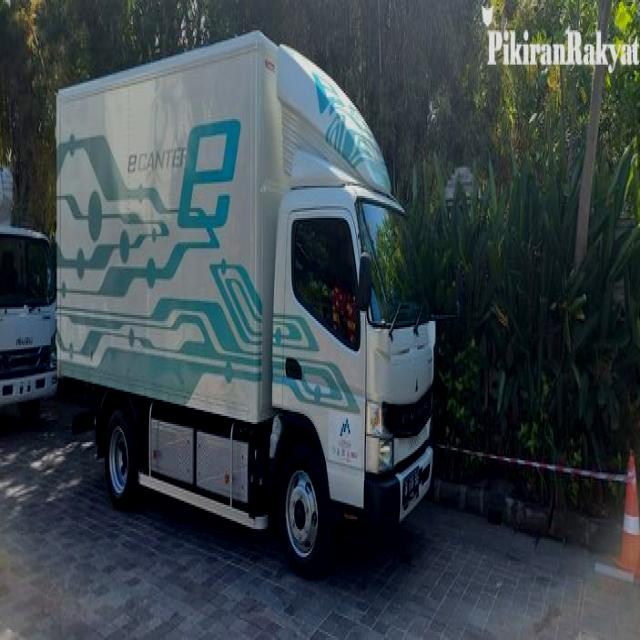truck: (57, 34, 435, 567)
